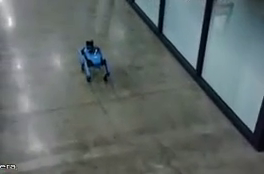robot dog: (76, 37, 112, 87)
